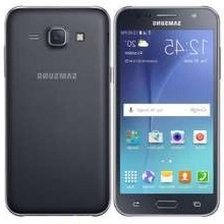phone: (110, 0, 223, 220), (0, 1, 113, 219)
